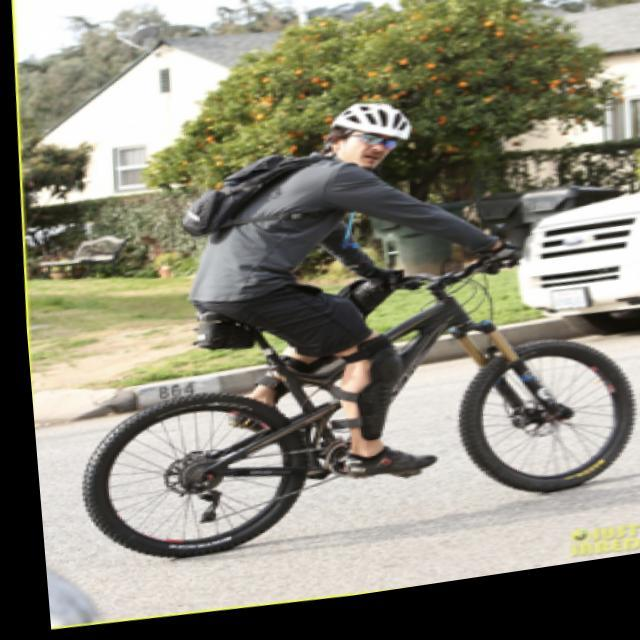Helmet: (318, 99, 413, 179)
